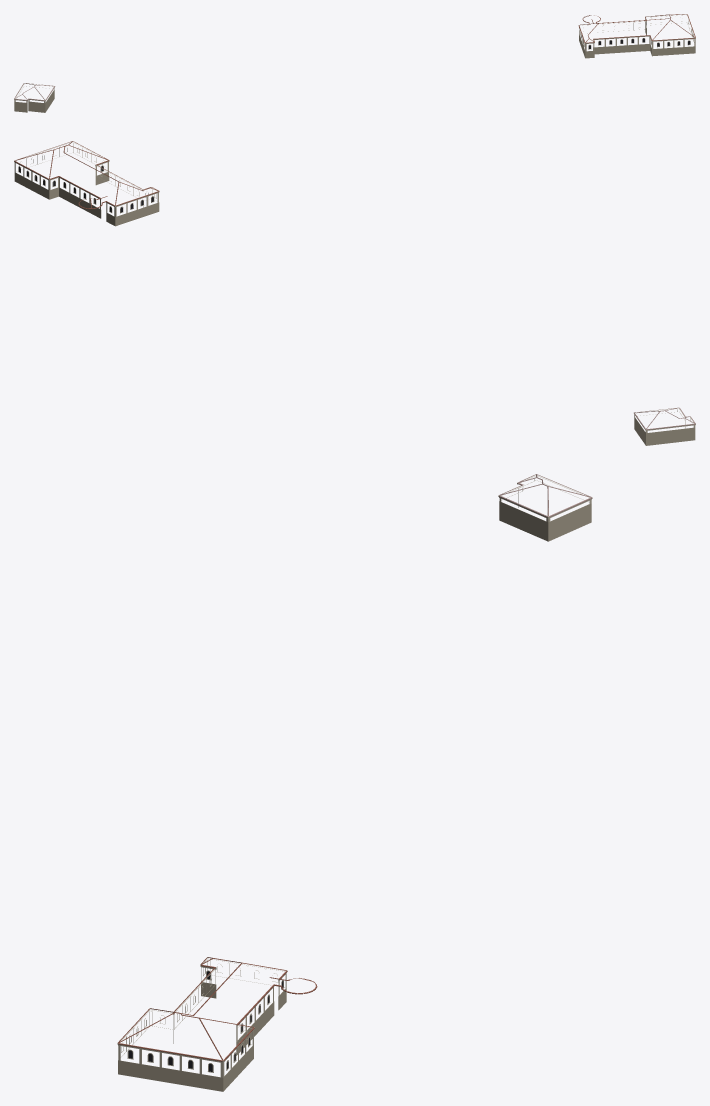
3 renders of one model, top to bottom at view 1: azimuth 30°, elevation 25°; view 2: azimuth 150°, elevation 25°; view 3: azimuth 270°, elevation 25°, orthographic. The views are drawn at different scales.
Visible parts, largest first — view 1: detail; view 2: detail; view 3: detail.
Boxes of the visible parts, bbox=[...] form: detail: bbox=[14, 14, 695, 112]; detail: bbox=[14, 141, 695, 445]; detail: bbox=[117, 474, 592, 1091].
Bounding box in the file's own units: 341 × 14.17 × 118.
